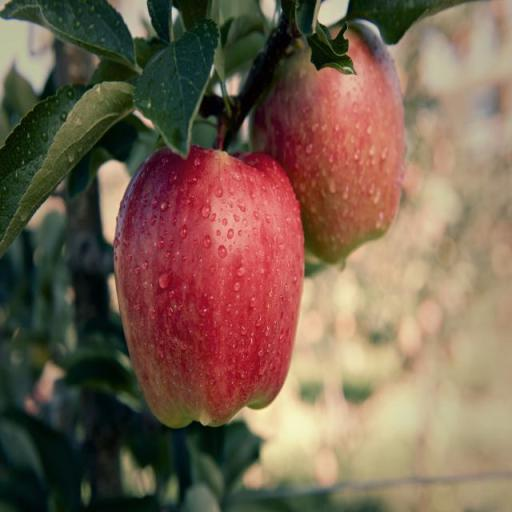fruit: (115, 147, 303, 425), (253, 28, 403, 261)
